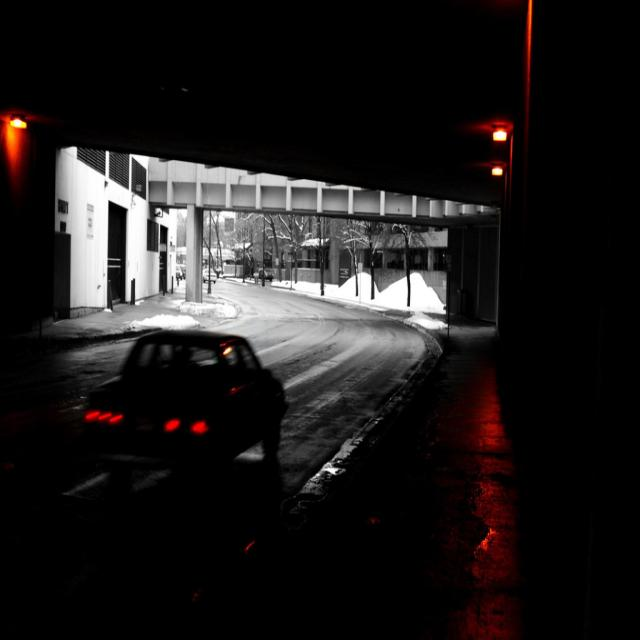Car: (100, 296, 294, 532)
